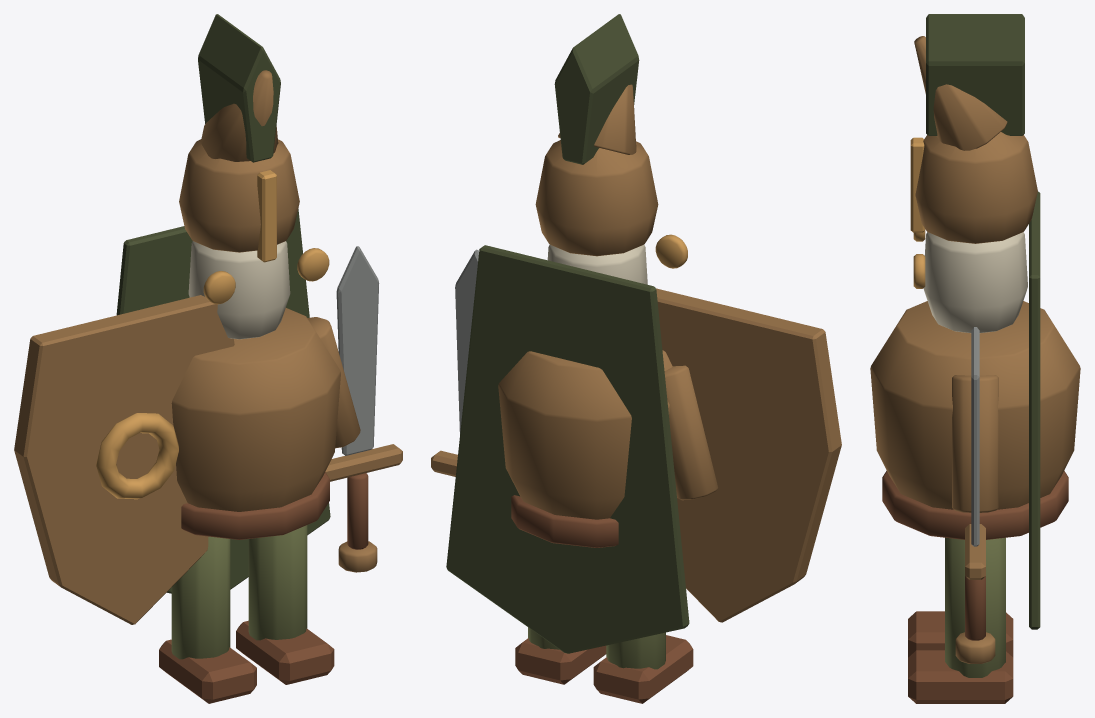
The model's file is hero_aizo.glb.
3 renders of one model, left to right at view 1: azimuth 30°, elevation 25°; view 2: azimuth 150°, elevation 25°; view 3: azimuth 270°, elevation 25°, orthographic. The views are drawn at different scales.
Visible parts, largest first — view 1: HERO__shield, HERO__torso, HERO__helmet, HERO__cape, HERO__plume, HERO__head, HERO__sword, HERO__leg_1, HERO__leg_-1, HERO__belt, HERO__shield__boss, HERO__boot_1 (+9 smaller); view 2: HERO__cape, HERO__shield, HERO__torso, HERO__helmet, HERO__plume, HERO__arm_-1, HERO__boot_-1, HERO__belt, HERO__boot_1, HERO__sword, HERO__head, HERO__helmet_tip (+2 smaller); view 3: HERO__torso, HERO__helmet, HERO__plume, HERO__head, HERO__arm_1, HERO__leg_1, HERO__cape, HERO__belt, HERO__boot_1, HERO__helmet_tip, HERO__sword, HERO__boot_-1 (+5 smaller).
Boxes of the visible parts, left/top/right/bottom form: HERO__shield: left=14, top=295, right=234, bottom=624; HERO__torso: left=171, top=308, right=340, bottom=511; HERO__helmet: left=179, top=139, right=299, bottom=252; HERO__cape: left=116, top=209, right=330, bottom=593; HERO__plume: left=198, top=14, right=280, bottom=162; HERO__head: left=188, top=241, right=290, bottom=339; HERO__sword: left=336, top=246, right=379, bottom=455; HERO__leg_1: left=248, top=525, right=307, bottom=640; HERO__leg_-1: left=171, top=536, right=230, bottom=659; HERO__belt: left=181, top=472, right=329, bottom=539; HERO__shield__boss: left=96, top=413, right=178, bottom=499; HERO__boot_1: left=236, top=620, right=334, bottom=684; HERO__cape: left=446, top=245, right=689, bottom=653; HERO__shield: left=656, top=288, right=841, bottom=622; HERO__torso: left=498, top=350, right=672, bottom=519; HERO__helmet: left=535, top=140, right=658, bottom=256; HERO__plume: left=554, top=14, right=639, bottom=164; HERO__arm_-1: left=664, top=365, right=717, bottom=500; HERO__boot_-1: left=593, top=635, right=693, bottom=703; HERO__belt: left=511, top=495, right=618, bottom=547; HERO__boot_1: left=515, top=638, right=606, bottom=684; HERO__sword: left=455, top=249, right=478, bottom=433; HERO__head: left=547, top=244, right=647, bottom=284; HERO__helmet_tip: left=558, top=84, right=636, bottom=154; HERO__torso: left=870, top=301, right=1080, bottom=509; HERO__helmet: left=915, top=132, right=1037, bottom=243; HERO__plume: left=926, top=14, right=1024, bottom=135; HERO__head: left=923, top=232, right=1027, bottom=333; HERO__arm_1: left=952, top=375, right=998, bottom=512; HERO__leg_1: left=945, top=537, right=1005, bottom=677; HERO__cape: left=1029, top=191, right=1040, bottom=629; HERO__belt: left=882, top=470, right=1068, bottom=539; HERO__boot_1: left=908, top=650, right=1013, bottom=703; HERO__helmet_tip: left=914, top=36, right=1007, bottom=150; HERO__sword: left=971, top=327, right=979, bottom=546; HERO__boot_-1: left=908, top=611, right=1013, bottom=657.
Size of the model in its own units: 1.41 by 2.21 by 0.6393.
